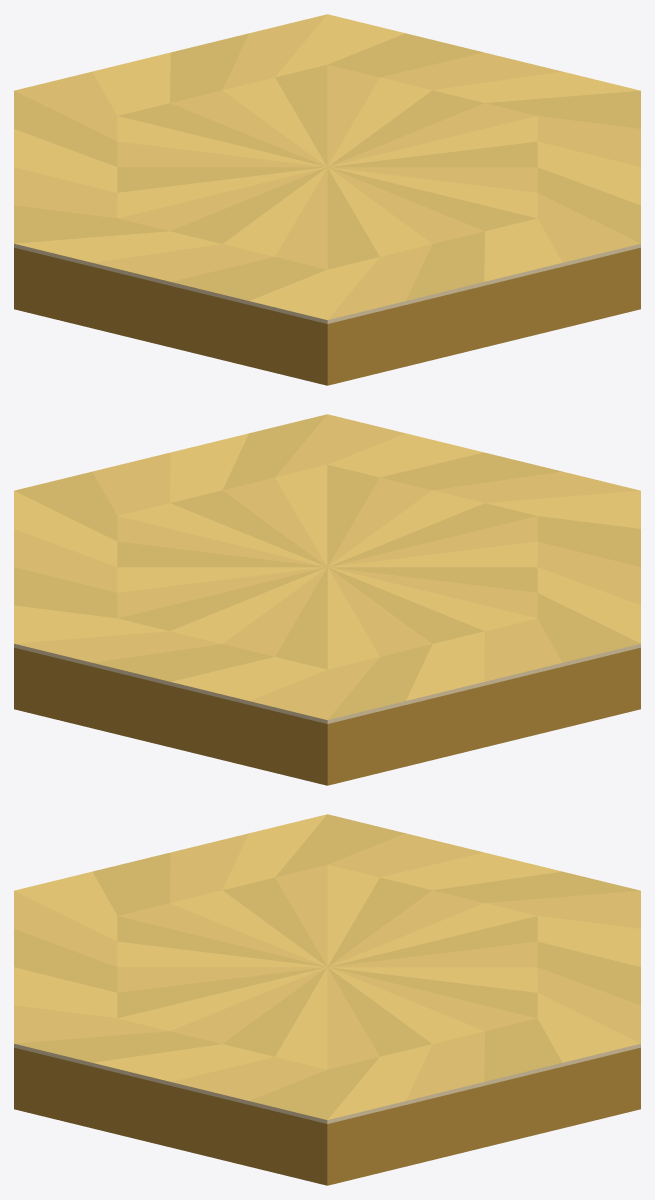
The model's file is terrain.glb.
3 views of the same model, one above another, from view 1: azimuth 30°, elevation 25°; view 2: azimuth 150°, elevation 25°; view 3: azimuth 270°, elevation 25° (orthographic).
Visible parts, largest first — view 1: Tile_苹果鲁萨; view 2: Tile_苹果鲁萨; view 3: Tile_苹果鲁萨.
Part boxes in pixels (<box>): Tile_苹果鲁萨: <box>14,14,640,385</box>; Tile_苹果鲁萨: <box>14,414,640,785</box>; Tile_苹果鲁萨: <box>14,814,640,1185</box>.
Bounding box in the file's own units: 2 × 0.2 × 1.73.
